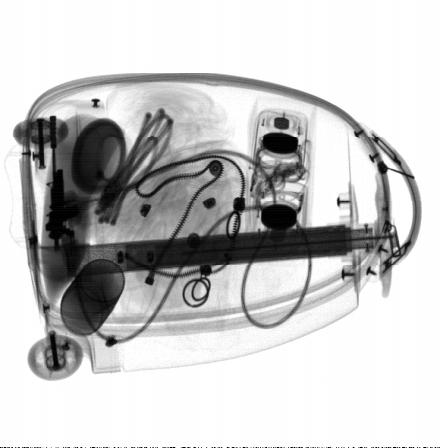Gun: (44, 112, 78, 252)
